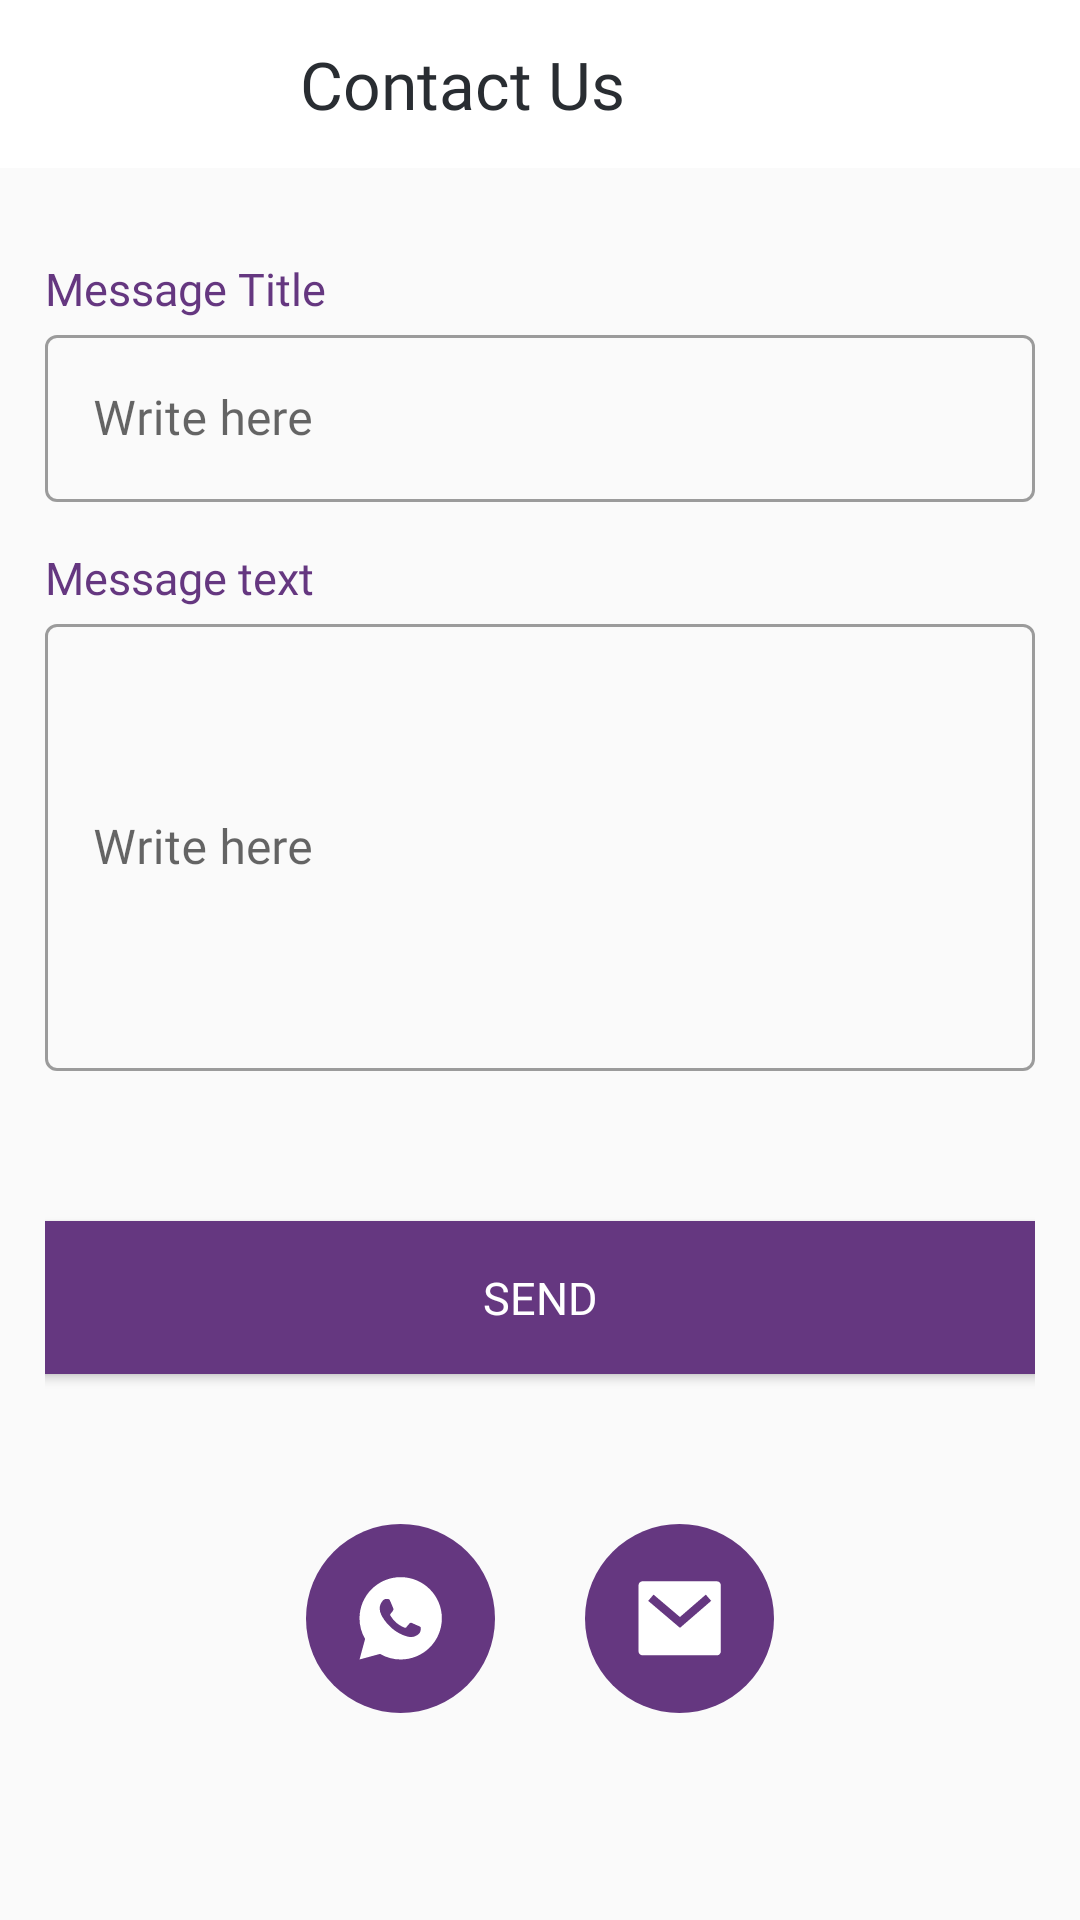

Point at icon controls on the screen. Image size 1080px×1920px, points as (x,y).
email: (679,1618)
